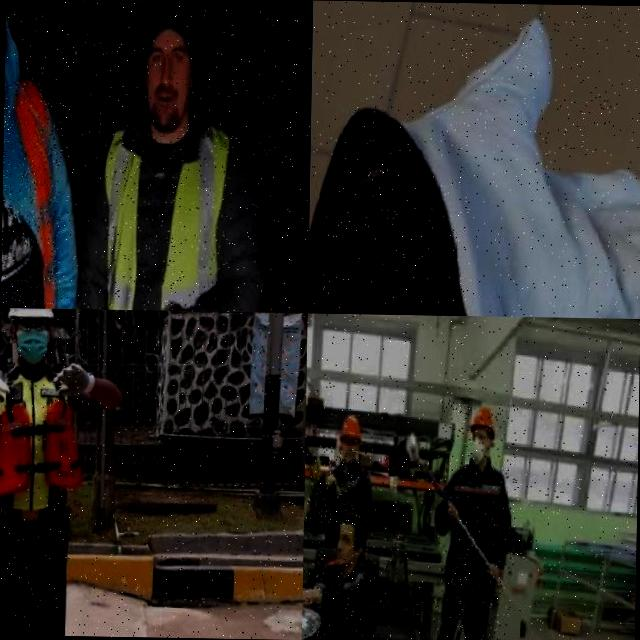helmet: (465, 404, 495, 440), (5, 308, 56, 326), (336, 412, 362, 444)
vest: (92, 121, 236, 311), (0, 75, 66, 308), (0, 361, 85, 518)
